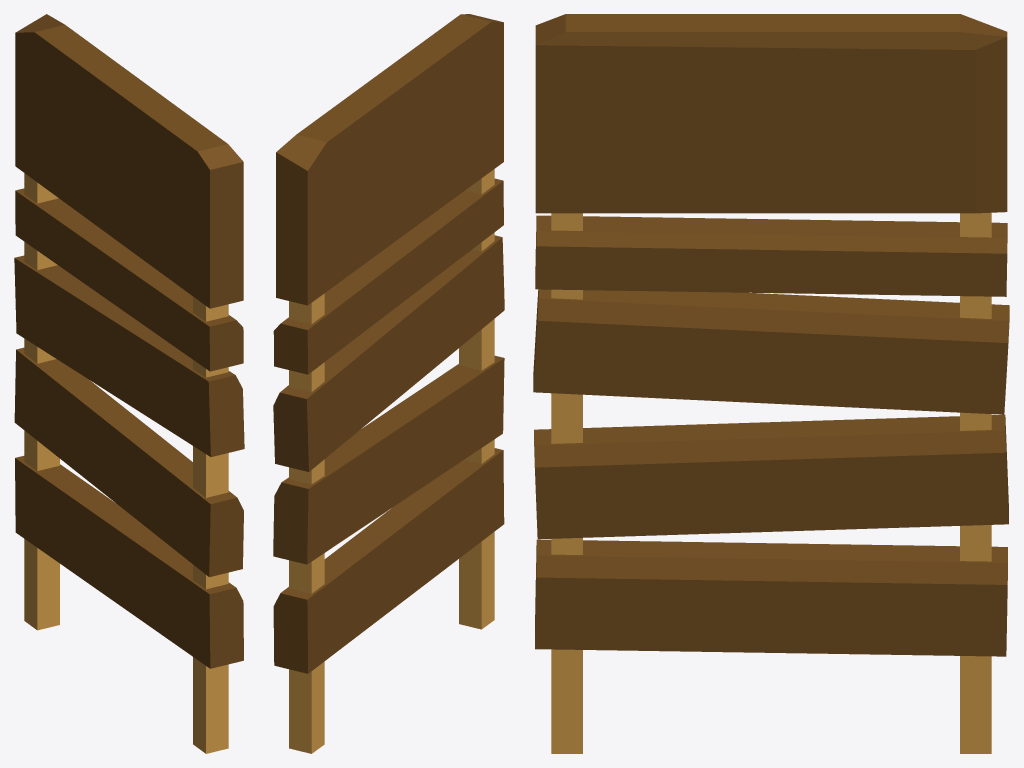
Rendered from BarrierFull.fbx.
The picture shows the model from 3 angles, left to right: view 1: azimuth 30°, elevation 25°; view 2: azimuth 150°, elevation 25°; view 3: azimuth 270°, elevation 25°; orthographic projection. The views are drawn at different scales.
Visible parts, largest first — view 1: Cube.003; view 2: Cube.003; view 3: Cube.003.
Part boxes in pixels (x1,y1,x2,y2): Cube.003: [14, 14, 244, 753]; Cube.003: [273, 14, 504, 753]; Cube.003: [533, 14, 1009, 753].
Bounding box in the file's own units: 0.6 × 10.18 × 6.06.
